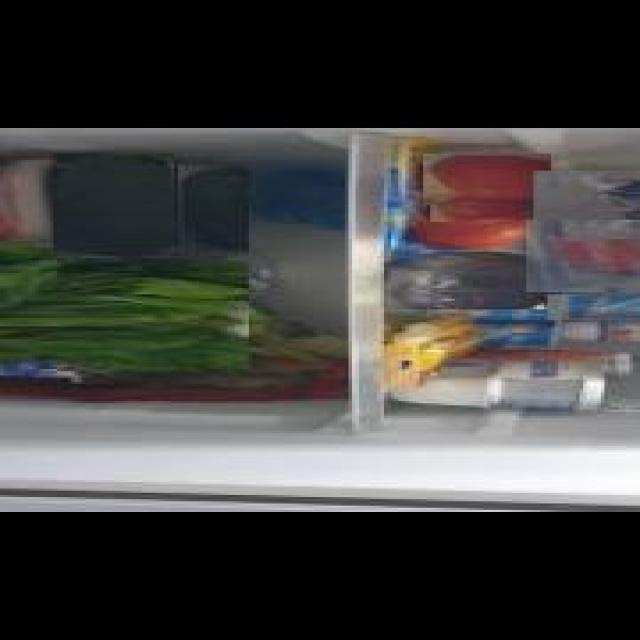avocado: (380, 251, 562, 310)
cucumber: (50, 154, 170, 258), (174, 164, 246, 252)
grated_cheese: (522, 219, 640, 292), (530, 170, 640, 237)
pak_choi: (0, 260, 245, 371)
tomato: (420, 153, 548, 204), (404, 220, 528, 250), (425, 196, 539, 222)
yogurt: (544, 294, 640, 320), (551, 320, 640, 346)
